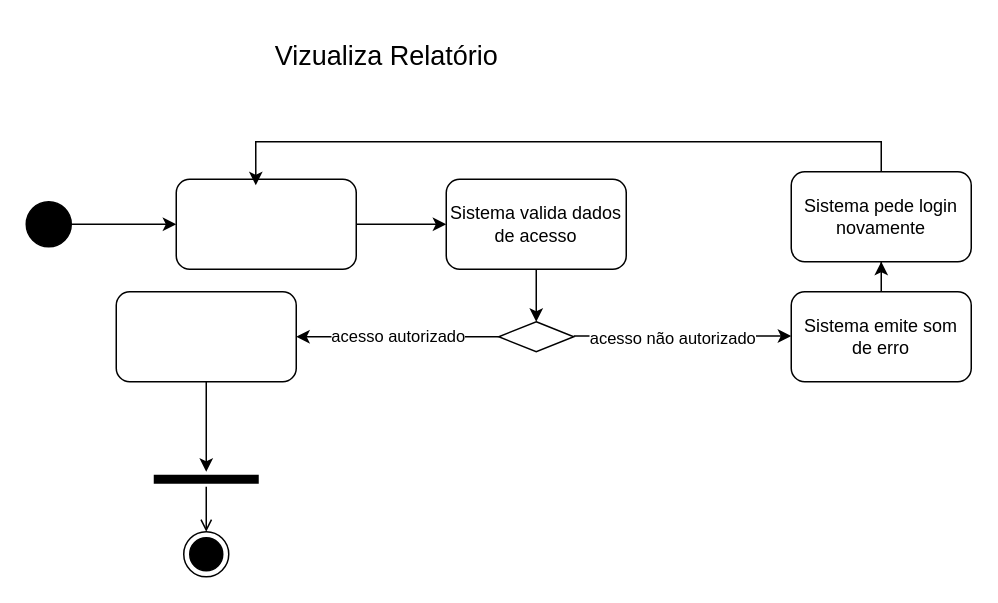
Some shapes in this 998 by 603 pixel diagram are drawn without their labels. The shapes that lost their labels are listed below. From the top down, each one's centre as x and y in pixels, then its label:
At [265,223]: "Gerenciador do sistema digita login de acesso".
At [205,336]: "Sistema disponibiliza relatório de votos da UEg".
